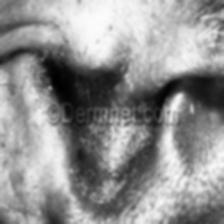Non-Cancerous Skin Condition: (48, 7, 150, 207)
